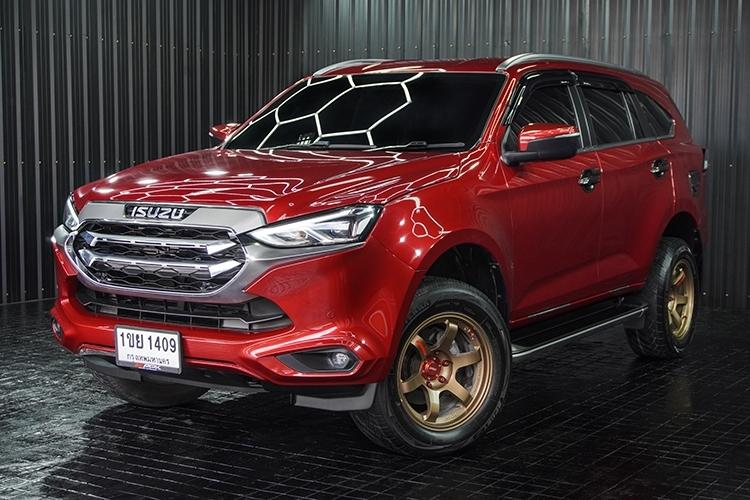license-plate: (113, 322, 183, 377)
